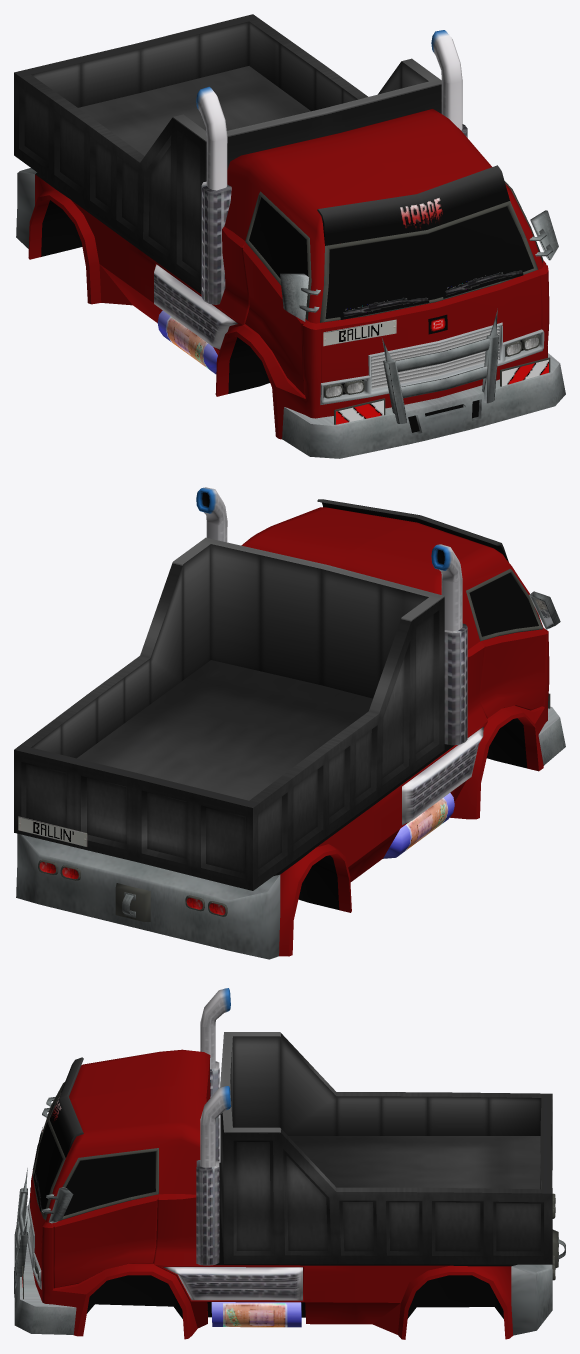
The model's file is Dumpy.glb.
The picture shows the model from 3 angles, top to bottom: view 1: azimuth 30°, elevation 25°; view 2: azimuth 150°, elevation 25°; view 3: azimuth 270°, elevation 25°; orthographic projection. The views are drawn at different scales.
Visible parts, largest first — view 1: Details, Paintjob, Glass; view 2: Details, Paintjob, Glass; view 3: Details, Paintjob, Glass.
Boxes of the visible parts, x1,y1,x2,y2 form: Details: [14, 14, 565, 458]; Paintjob: [28, 109, 549, 439]; Glass: [249, 197, 533, 318]; Details: [14, 487, 565, 959]; Paintjob: [241, 499, 549, 956]; Glass: [469, 572, 538, 636]; Details: [14, 988, 565, 1335]; Paintjob: [22, 1049, 513, 1339]; Glass: [35, 1104, 155, 1215].
Size of the model in its own units: 2.23 by 2.25 by 4.57.
Materials: 2 (2 with a texture image).
